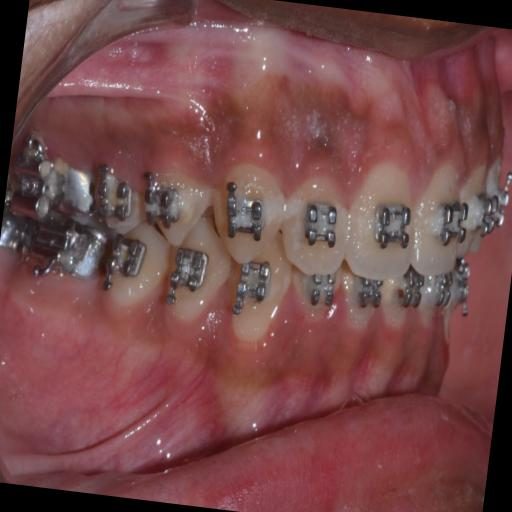correct_brace: (134, 162, 212, 247), (220, 180, 269, 244), (366, 195, 414, 255), (300, 195, 342, 250)
incorrect_brace: (280, 162, 354, 272), (140, 176, 188, 236)
